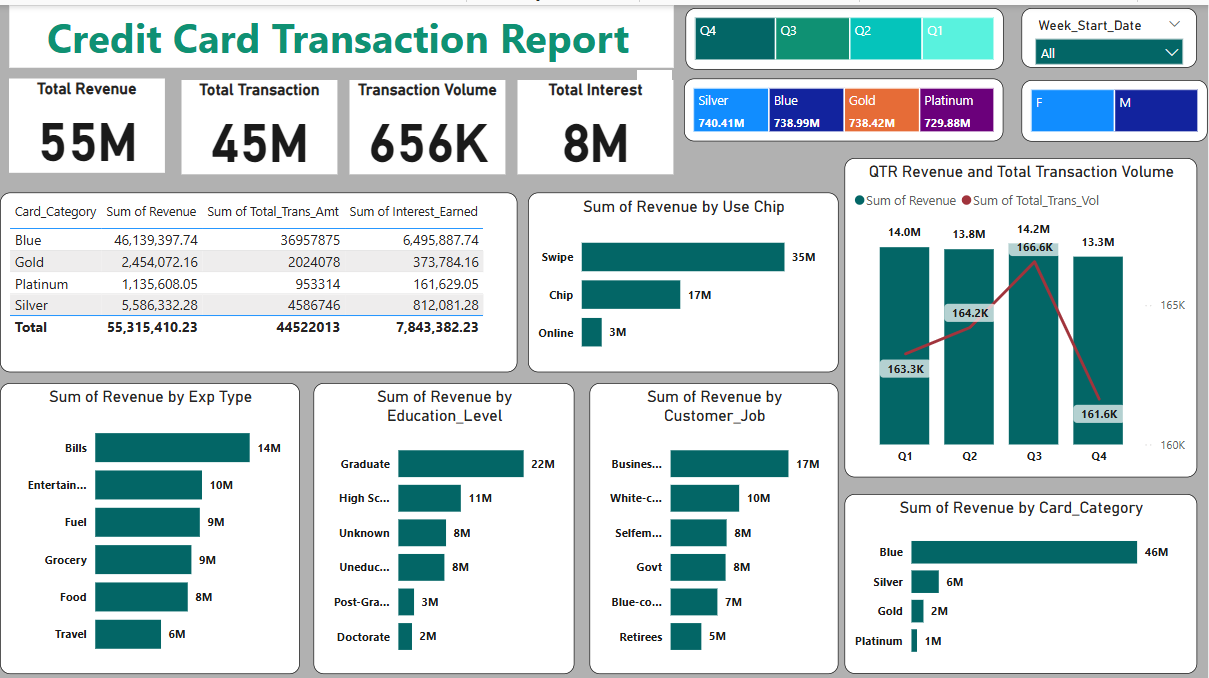

Layout of this report page (visuals, bound fields, positions):
{"tool":"powerbi","page":{"name":"CC Transaction","canvas":[1280,720],"ordinal":1},"visuals":[{"type":"textbox","box":[9.5,0,704.6,66.8],"z":0},{"type":"tableEx","title":"QTR Revenue and Total Transaction Volume","fields":{"Values":["credit_card.Card_Category","Sum(credit_card.Revenue)","Sum(credit_card.Total_Trans_Amt)","Sum(credit_card.Interest_Earned)"]},"box":[0,198.8,548.8,190.9],"z":1000},{"type":"barChart","fields":{"Y":["Sum(credit_card.Revenue)"],"Category":["credit_card.Exp Type"]},"box":[0,400.8,318.1,308.6],"z":2000},{"type":"barChart","fields":{"Y":["Sum(credit_card.Revenue)"],"Category":["customer.Education_Level"]},"box":[332.4,400.8,276.8,308.6],"z":3000},{"type":"barChart","fields":{"Y":["Sum(credit_card.Revenue)"],"Category":["customer.Customer_Job"]},"box":[625.1,400.8,264,308.6],"z":4000},{"type":"barChart","fields":{"Y":["Sum(credit_card.Revenue)"],"Category":["credit_card.Card_Category"]},"box":[895.5,518.5,373.8,190.9],"z":5000},{"type":"barChart","fields":{"Y":["Sum(credit_card.Revenue)"],"Category":["credit_card.Use Chip"]},"box":[559.9,198.8,329.3,190.9],"z":6000},{"type":"card","title":"Total Revenue","fields":{"Values":["Sum(credit_card.Revenue)"]},"box":[9.5,77.9,165,100],"z":7000},{"type":"card","title":"Total Transaction","fields":{"Values":["Sum(credit_card.Total_Trans_Amt)"]},"box":[192.5,79.5,165.4,100.2],"z":8000},{"type":"card","title":"Total Interest","fields":{"Values":["Sum(credit_card.Interest_Earned)"]},"box":[548.8,79.5,165.4,100.2],"z":9000},{"type":"card","title":"Transaction Volume","fields":{"Values":["Sum(credit_card.Total_Trans_Vol)"]},"box":[370.6,79.5,165.4,100.2],"z":10000},{"type":"lineStackedColumnComboChart","title":"QTR Revenue and Total Transaction Volume","fields":{"Category":["credit_card.Qtr"],"Y":["Sum(credit_card.Revenue)"],"Y2":["Sum(credit_card.Total_Trans_Vol)"]},"box":[895.5,162.2,373.8,338.8],"z":11000},{"type":"slicer","fields":{"Values":["credit_card.Week_Start_Date"]},"box":[1083.2,3.2,186.1,63.6],"z":12000},{"type":"treemap","fields":{"Group":["customer.Gender"],"Values":["Avg(credit_card.Client_Num)"]},"box":[1083.2,79.5,197.2,65.2],"z":13000},{"type":"treemap","fields":{"Group":["credit_card.Qtr"],"Values":["Avg(credit_card.Client_Num)"]},"box":[726.9,3.2,337.2,65.2],"z":14000},{"type":"treemap","fields":{"Group":["credit_card.Card_Category"],"Values":["Avg(credit_card.Client_Num)"]},"box":[725.3,77.9,338.8,66.8],"z":15000}]}

Visuals, with their boxes in screenshot pixels (x1, y1, x2, y2), scaled from the page's 1280x720 canvas onto the 1209x678 screenshot:
textbox: pyautogui.locateOnScreen(9, 0, 674, 63)
"QTR Revenue and Total Transaction Volume" tableEx: pyautogui.locateOnScreen(0, 187, 518, 367)
barChart - Sum(credit_card.Revenue) x credit_card.Exp Type: pyautogui.locateOnScreen(0, 377, 300, 668)
barChart - Sum(credit_card.Revenue) x customer.Education_Level: pyautogui.locateOnScreen(314, 377, 575, 668)
barChart - Sum(credit_card.Revenue) x customer.Customer_Job: pyautogui.locateOnScreen(590, 377, 840, 668)
barChart - Sum(credit_card.Revenue) x credit_card.Card_Category: pyautogui.locateOnScreen(846, 488, 1199, 668)
barChart - Sum(credit_card.Revenue) x credit_card.Use Chip: pyautogui.locateOnScreen(529, 187, 840, 367)
"Total Revenue" card: pyautogui.locateOnScreen(9, 73, 165, 168)
"Total Transaction" card: pyautogui.locateOnScreen(182, 75, 338, 169)
"Total Interest" card: pyautogui.locateOnScreen(518, 75, 675, 169)
"Transaction Volume" card: pyautogui.locateOnScreen(350, 75, 506, 169)
"QTR Revenue and Total Transaction Volume" lineStackedColumnComboChart: pyautogui.locateOnScreen(846, 153, 1199, 472)
slicer - credit_card.Week_Start_Date: pyautogui.locateOnScreen(1023, 3, 1199, 63)
treemap - customer.Gender x Avg(credit_card.Client_Num): pyautogui.locateOnScreen(1023, 75, 1208, 136)
treemap - credit_card.Qtr x Avg(credit_card.Client_Num): pyautogui.locateOnScreen(687, 3, 1005, 64)
treemap - credit_card.Card_Category x Avg(credit_card.Client_Num): pyautogui.locateOnScreen(685, 73, 1005, 136)
